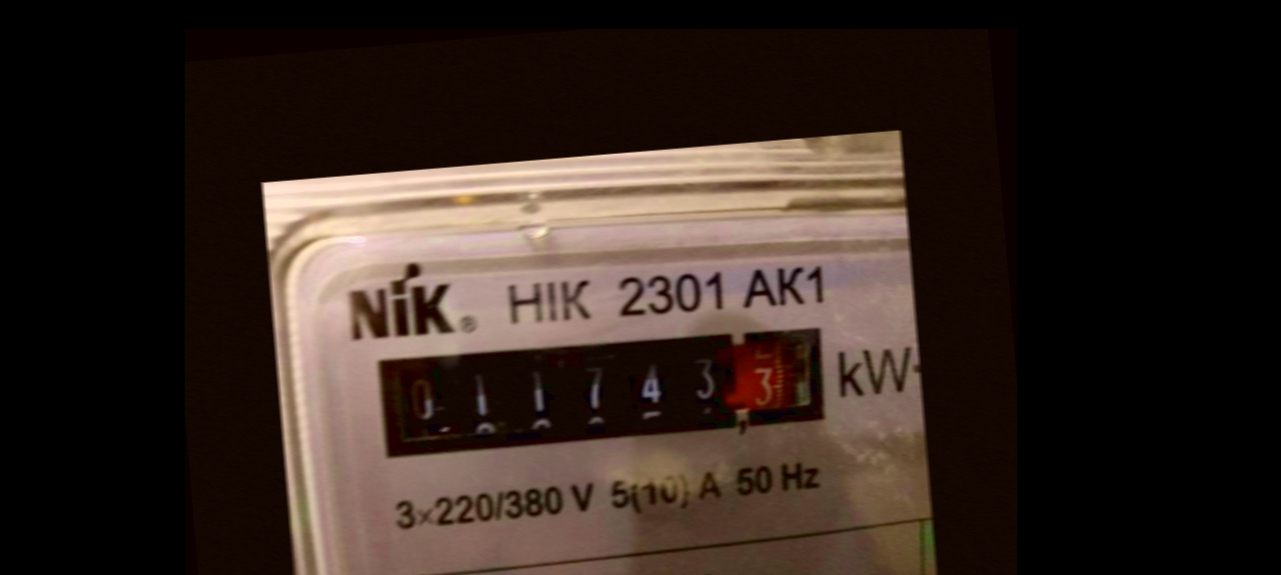0: (406, 376, 439, 425)
1: (526, 368, 550, 417), (471, 373, 492, 422)
3: (689, 356, 721, 405), (750, 365, 778, 411)
4: (635, 359, 667, 409)
7: (582, 365, 609, 415)
screen: (362, 316, 836, 472)
